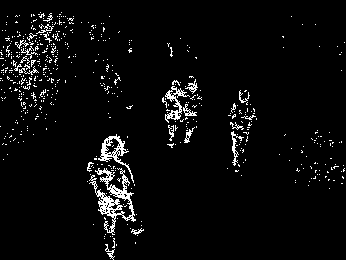person: (88, 134, 139, 260), (229, 88, 255, 170), (181, 71, 201, 148), (162, 78, 182, 148)
